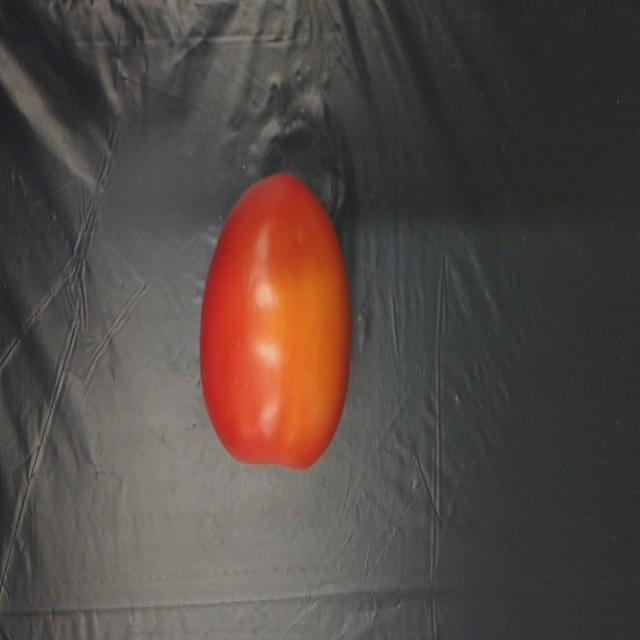sari: (194, 150, 360, 492)
